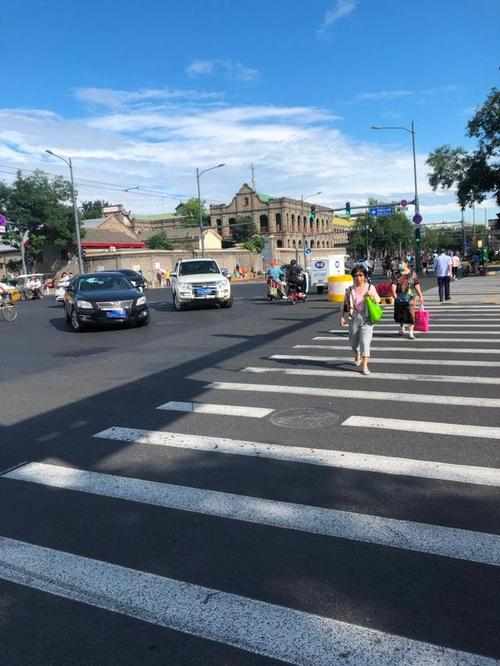bicycle: (286, 270, 307, 304), (0, 296, 19, 325), (266, 276, 287, 302)
car: (63, 271, 150, 332), (168, 258, 233, 312), (100, 268, 148, 292), (15, 275, 44, 300), (55, 274, 74, 303), (0, 283, 22, 303)
person: (342, 266, 382, 375), (393, 257, 422, 339), (433, 248, 452, 302), (266, 260, 285, 296), (286, 258, 303, 287), (451, 251, 461, 281)
sign: (367, 207, 392, 217), (412, 213, 423, 225), (400, 199, 408, 207)
traffic light: (415, 228, 421, 245), (345, 201, 351, 217), (310, 206, 316, 222)
truck: (306, 250, 348, 294)
